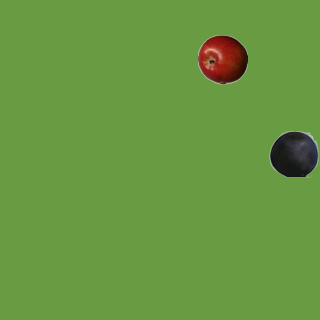Apple Braeburn: (197, 34, 247, 84)
Grape Blue: (268, 128, 318, 178)
